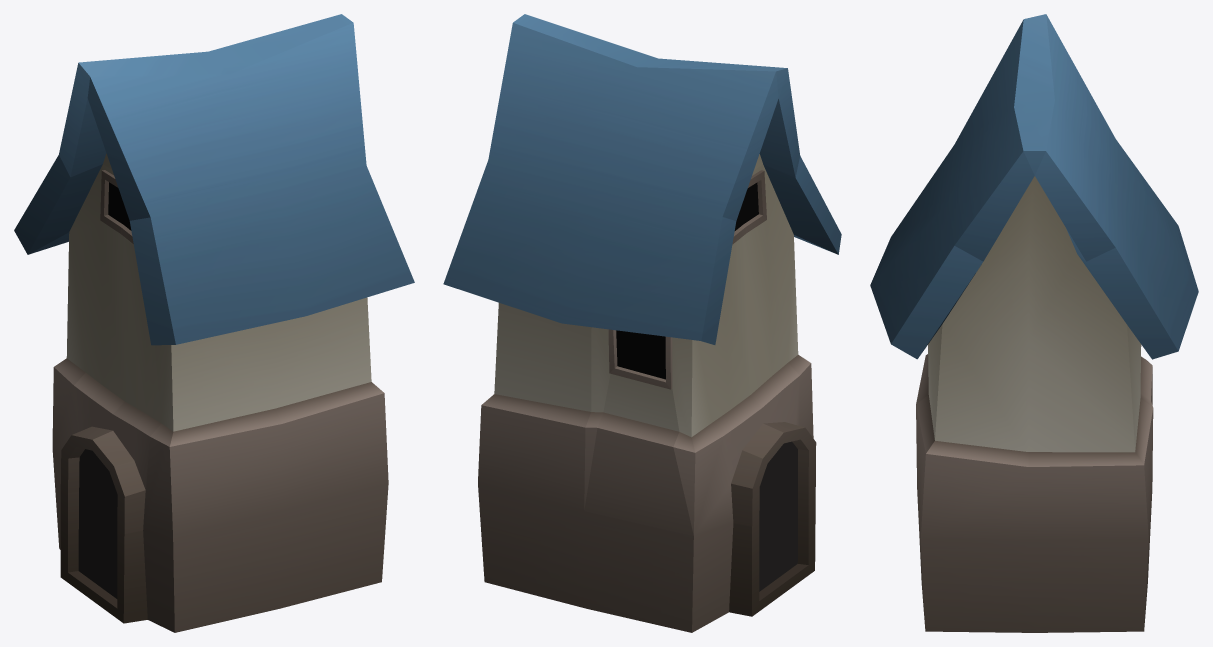
The model's file is house02_mdl.FBX.
The picture shows the model from 3 angles, left to right: view 1: azimuth 30°, elevation 25°; view 2: azimuth 150°, elevation 25°; view 3: azimuth 270°, elevation 25°; orthographic projection. The views are drawn at different scales.
Visible parts, largest first — view 1: house02; view 2: house02; view 3: house02.
Part boxes in pixels (box(x1,y1,x2,y2)): house02: box(14, 14, 414, 632); house02: box(443, 14, 841, 632); house02: box(870, 14, 1198, 632).
Bounding box in the file's own units: 2.65 × 5.09 × 3.
1 material, 1 textured.
